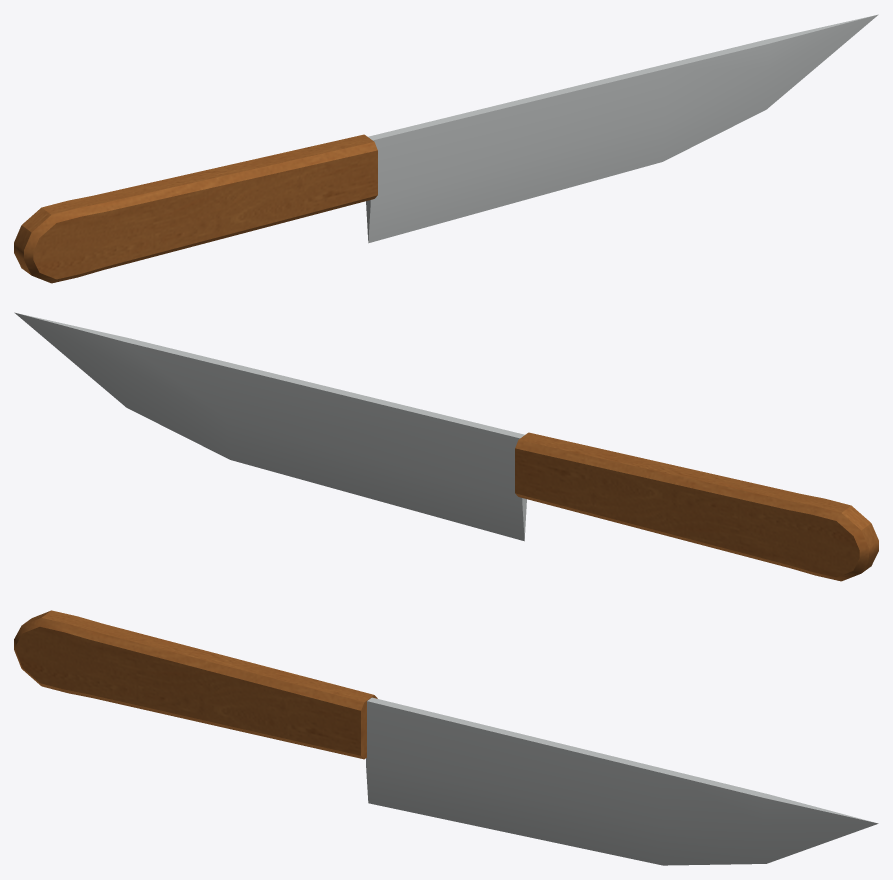
The model's file is knife1.fbx.
3 views of the same model, one above another, from view 1: azimuth 30°, elevation 25°; view 2: azimuth 150°, elevation 25°; view 3: azimuth 330°, elevation 25° (orthographic).
Visible parts, largest first — view 1: knife2; view 2: knife2; view 3: knife2.
Boxes of the visible parts, left/top/right/bottom form: knife2: left=14, top=14, right=878, bottom=283; knife2: left=14, top=312, right=878, bottom=581; knife2: left=14, top=610, right=878, bottom=865.
Bounding box in the file's own units: 0.4368 × 0.0539 × 0.0148.
